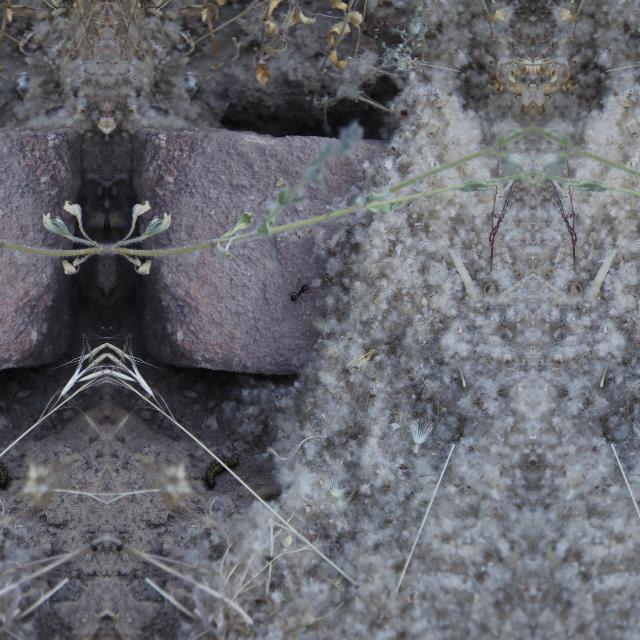Messor: (285, 276, 311, 306)
